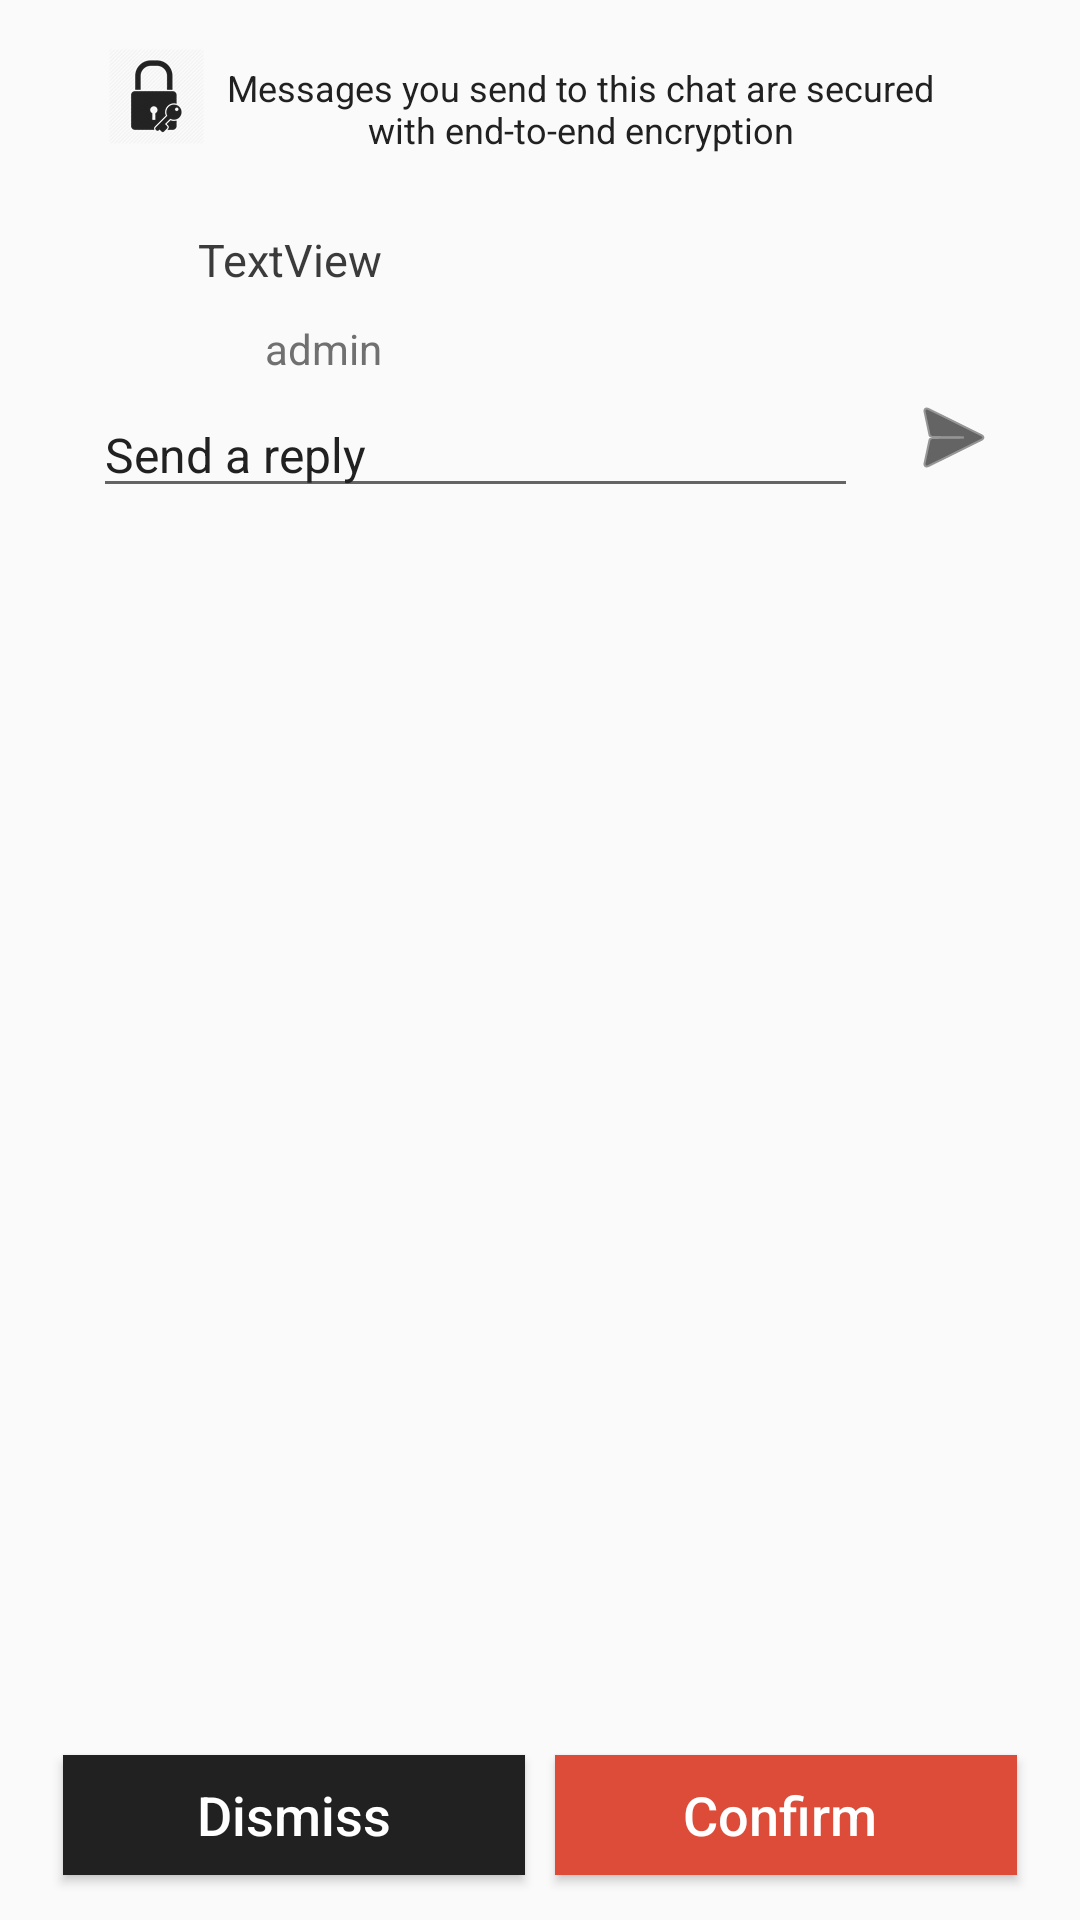

Where icons sit on this 1080px×1920px app screen, as (left=x1, top=y1, right=x2, bottom=y2):
om password: (left=131, top=60, right=182, bottom=132)
